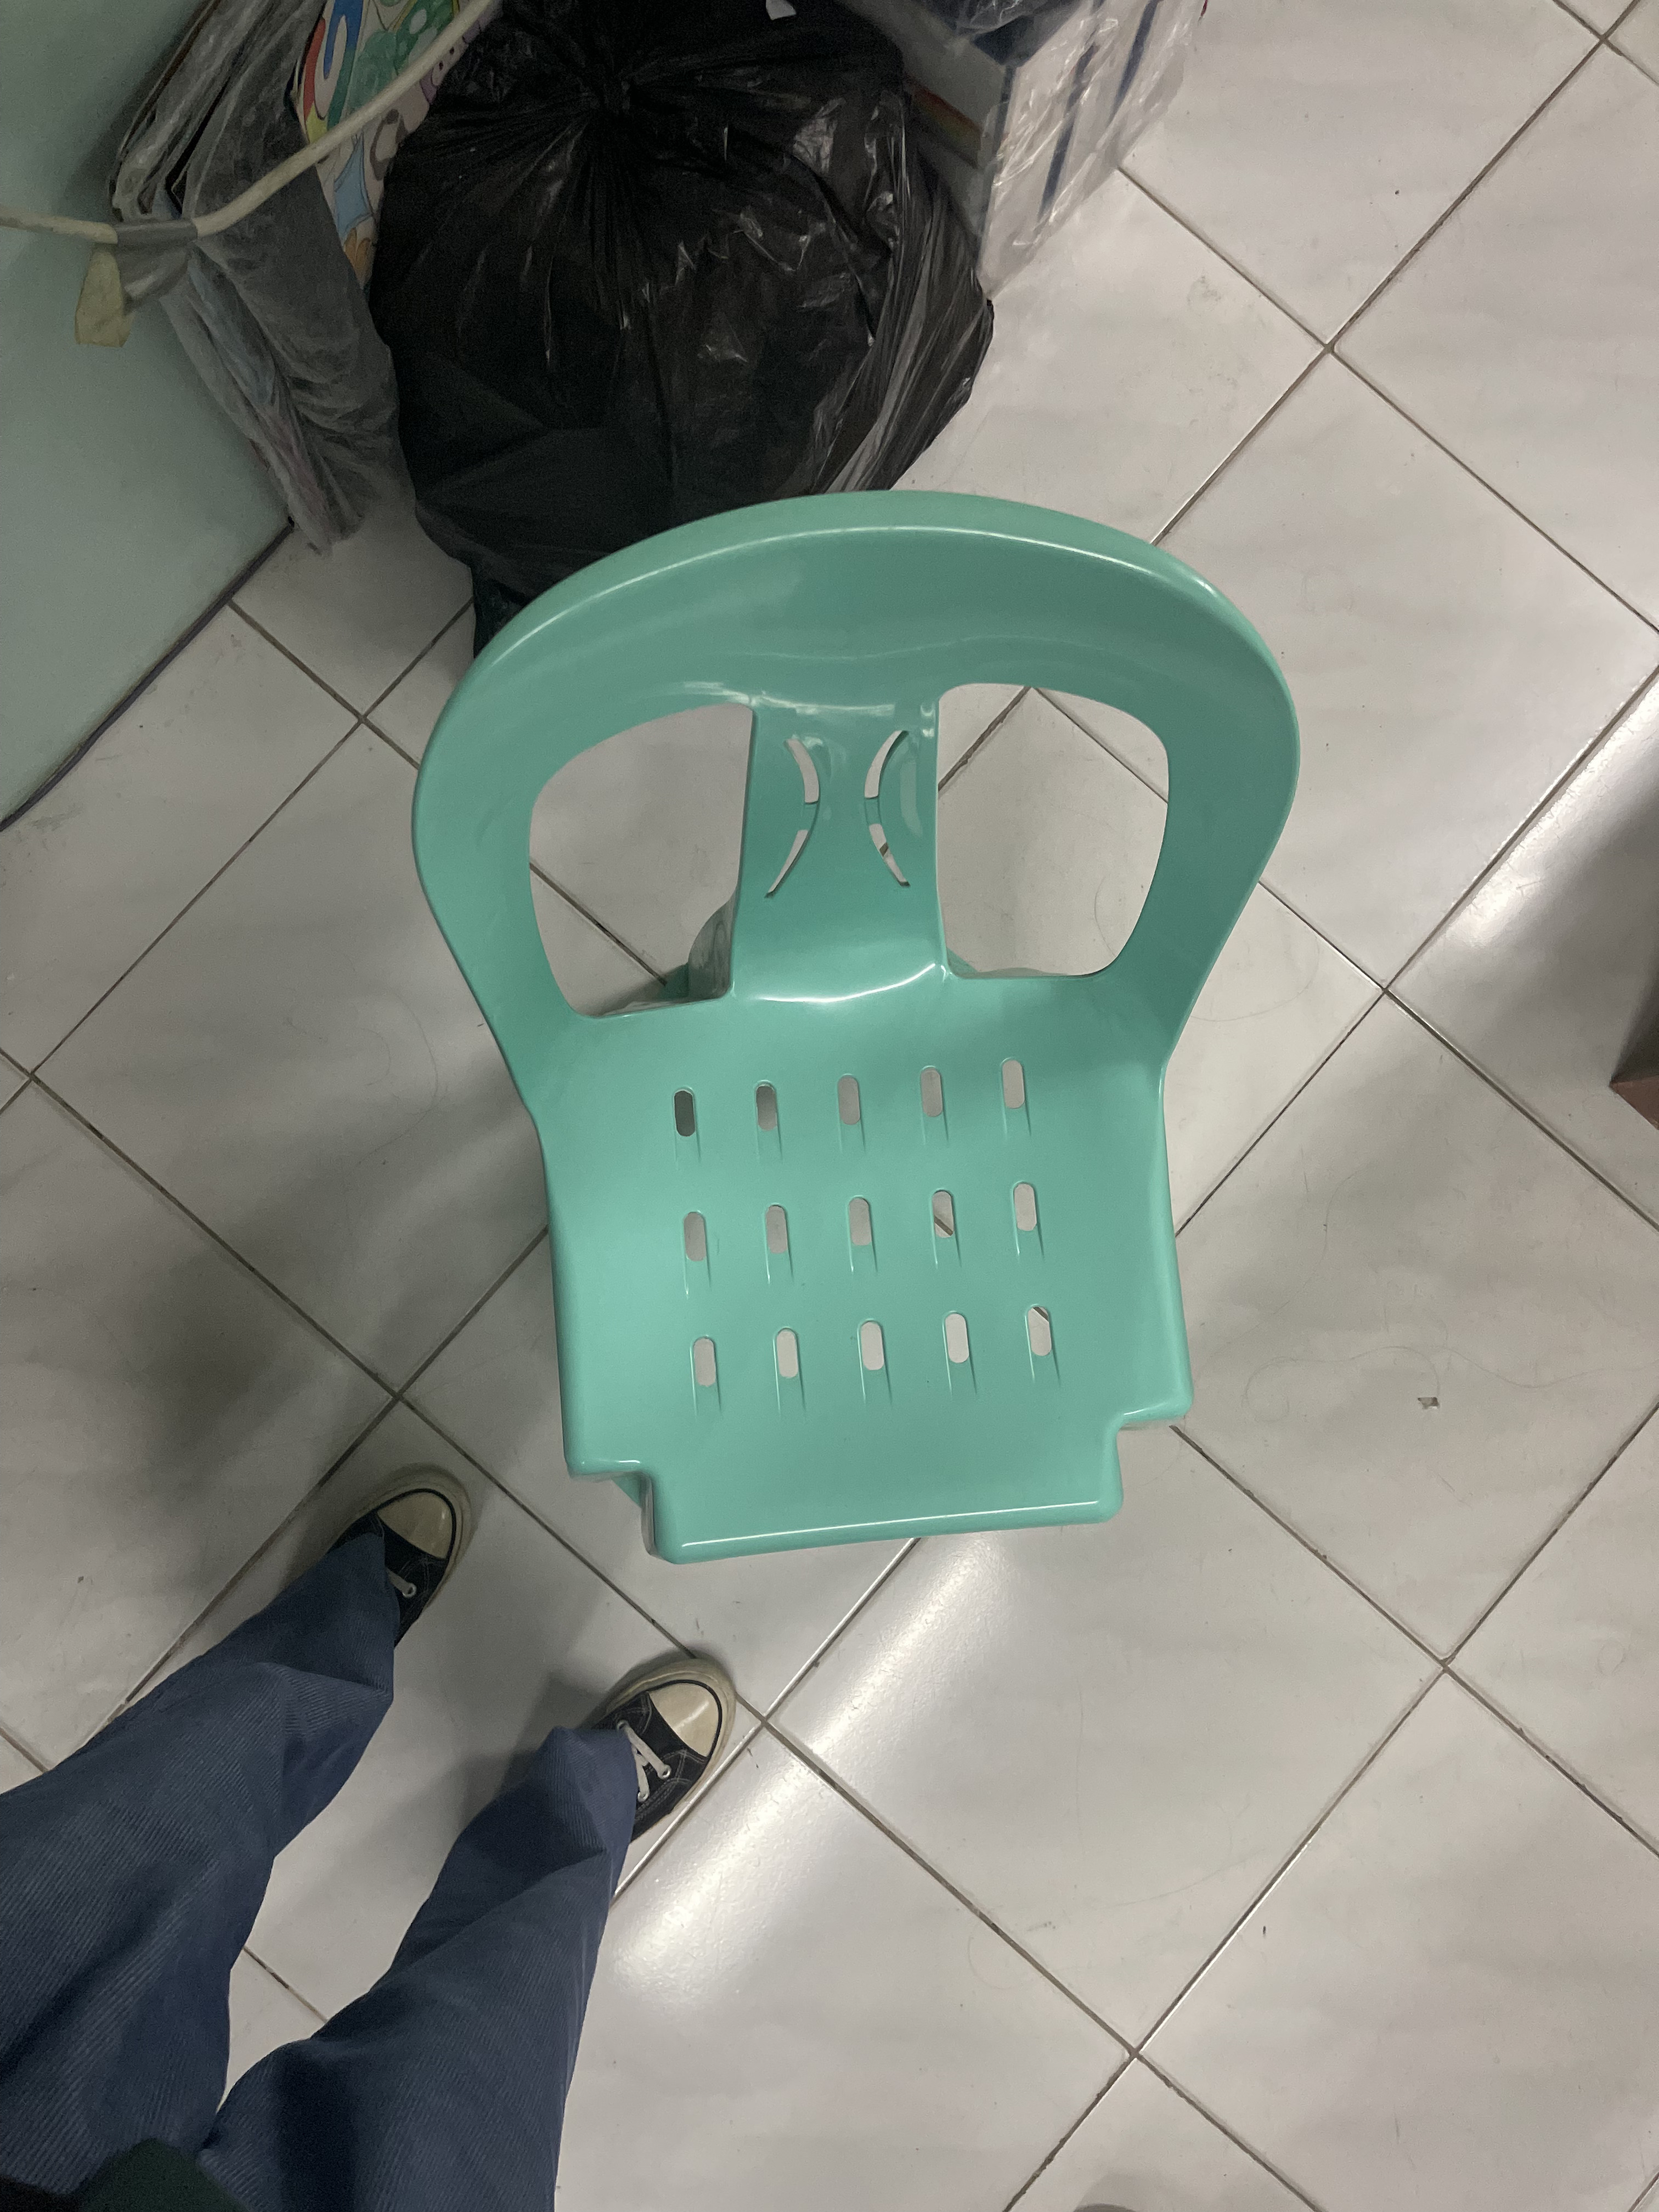chair2: (397, 475, 1316, 1635)
